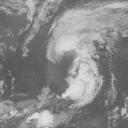cyclone: (49, 8, 102, 106)
